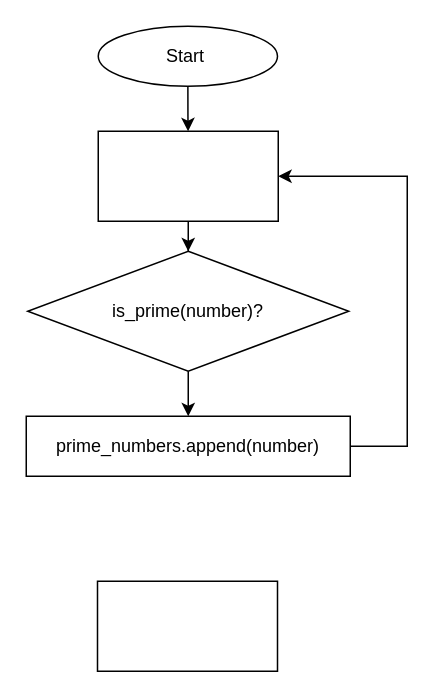
This 446x698 diagram has some shape labels left out. Here are the shapes that lost their labels. From the top down, the centre of each, then its label:
At point 187,175: "for number in range(2,101)".
At point 187,625: "number % == 0 ?".
